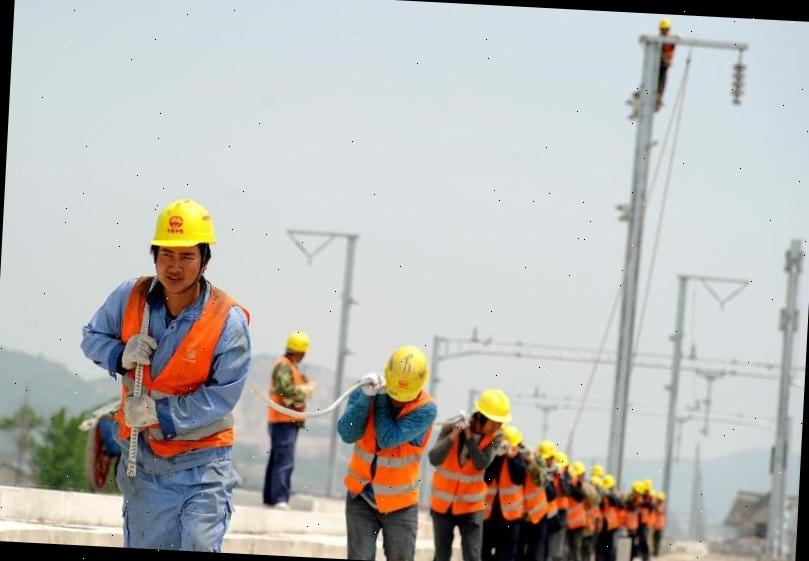helmet: (150, 194, 222, 253), (376, 342, 434, 404), (472, 387, 515, 422), (283, 328, 316, 353), (504, 426, 524, 448), (536, 438, 554, 458), (570, 458, 586, 478), (657, 14, 676, 28)
wear: (116, 280, 250, 437), (342, 394, 431, 518), (428, 427, 500, 521), (485, 452, 528, 520), (268, 360, 306, 424), (522, 465, 549, 523)
